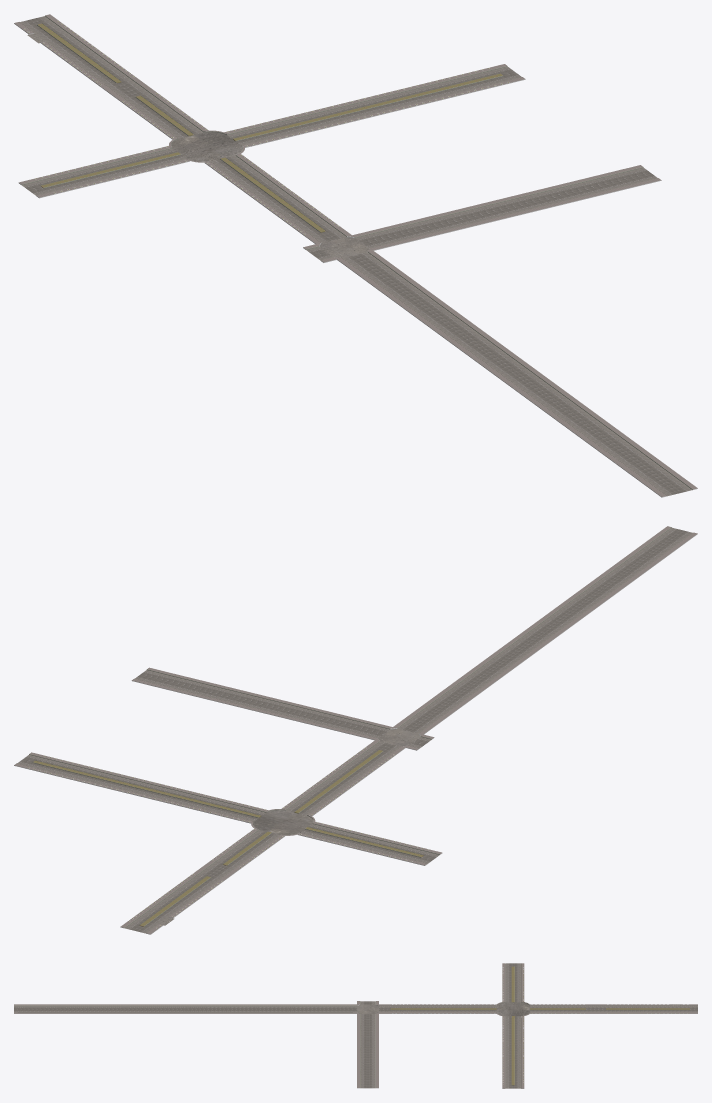
Rendered from Base_Ground_Uni_f.fbx.
3 views of the same model, one above another, from view 1: azimuth 30°, elevation 25°; view 2: azimuth 150°, elevation 25°; view 3: azimuth 270°, elevation 25° (orthographic). The views are drawn at different scales.
Visible parts, largest first — view 1: Plane.072; view 2: Plane.072; view 3: Plane.072.
Boxes of the visible parts, box(x1,y1,x2,y2) form: Plane.072: box(14, 14, 697, 497); Plane.072: box(14, 526, 697, 934); Plane.072: box(14, 963, 697, 1088).
Bounding box in the file's own units: 84531 × 36641 × 67.57.
